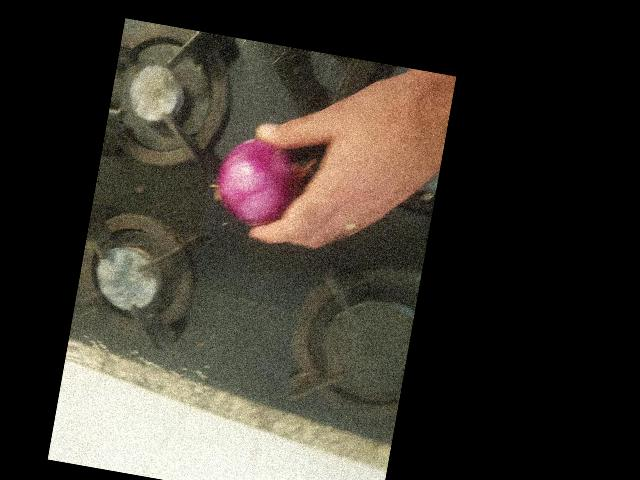onion: (209, 134, 304, 232)
